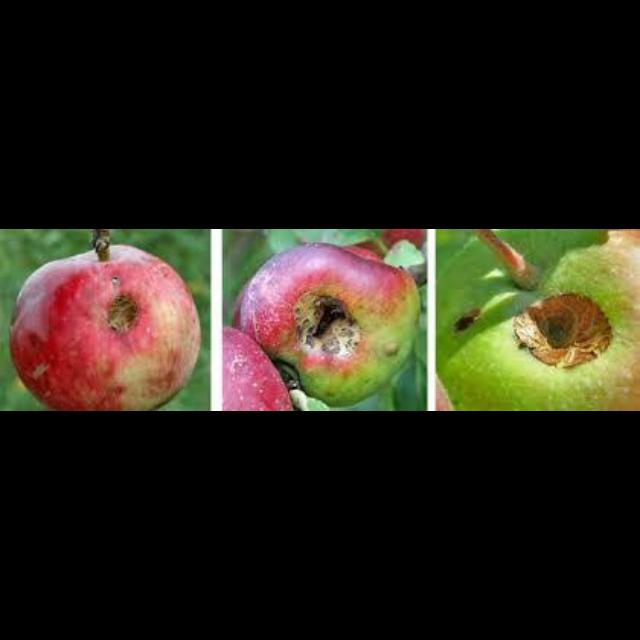apple: (434, 229, 638, 410), (5, 243, 200, 409), (232, 243, 419, 406)
pest: (514, 295, 618, 369), (291, 293, 364, 355), (105, 295, 144, 339)
